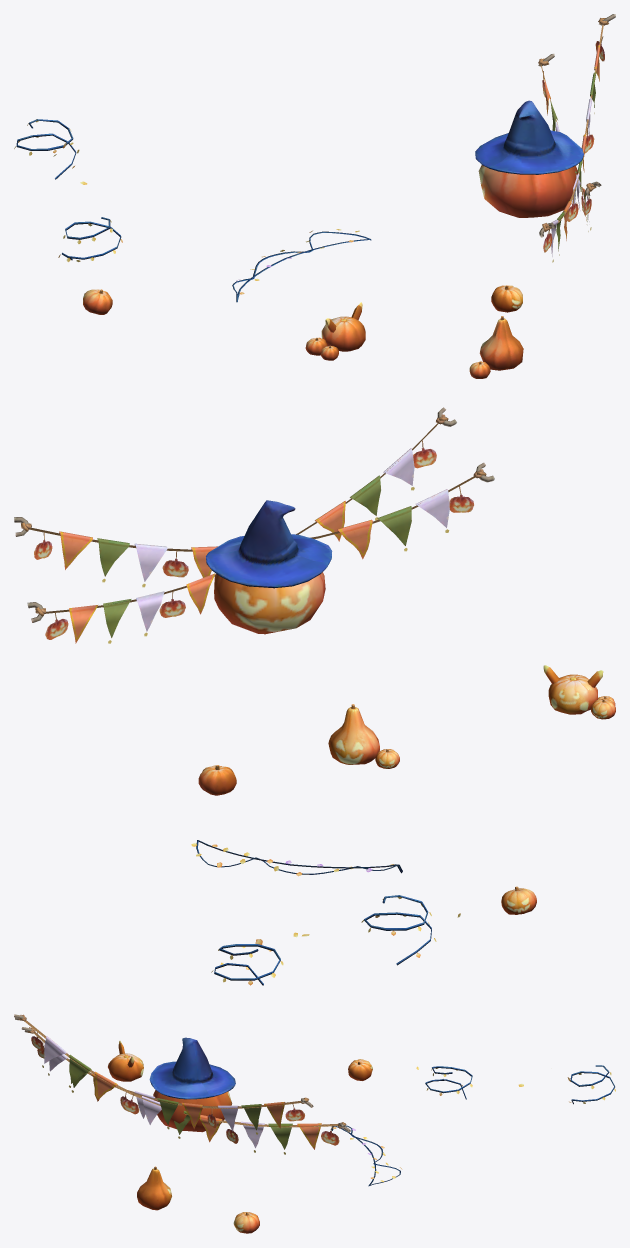
Rendered from pref_sm_4v4beachtech_WSJ_bk_decorate_L02_lv0.fbx.
3 renders of one model, top to bottom at view 1: azimuth 30°, elevation 25°; view 2: azimuth 150°, elevation 25°; view 3: azimuth 270°, elevation 25°, orthographic. The views are drawn at different scales.
Parts seen in each view (by area): view 1: sm_4v4beachtech_WSJ_bk_decorate_L02_b_lv0, sm_4v4beachtech_WSJ_bk_decorate_L02_a_lv0; view 2: sm_4v4beachtech_WSJ_bk_decorate_L02_b_lv0, sm_4v4beachtech_WSJ_bk_decorate_L02_a_lv0; view 3: sm_4v4beachtech_WSJ_bk_decorate_L02_a_lv0, sm_4v4beachtech_WSJ_bk_decorate_L02_b_lv0.
Part boxes in pixels (x1,y1,x2,y2): sm_4v4beachtech_WSJ_bk_decorate_L02_b_lv0: [83, 100, 583, 378]; sm_4v4beachtech_WSJ_bk_decorate_L02_a_lv0: [14, 14, 615, 302]; sm_4v4beachtech_WSJ_bk_decorate_L02_b_lv0: [198, 500, 615, 914]; sm_4v4beachtech_WSJ_bk_decorate_L02_a_lv0: [14, 407, 494, 985]; sm_4v4beachtech_WSJ_bk_decorate_L02_a_lv0: [14, 1014, 615, 1186]; sm_4v4beachtech_WSJ_bk_decorate_L02_b_lv0: [108, 1037, 372, 1233].
Bounding box in the file's own units: 22.95 × 10.92 × 30.34.
